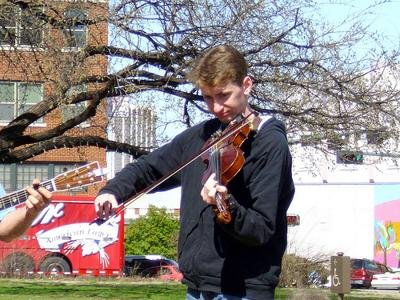person: (94, 45, 294, 300)
